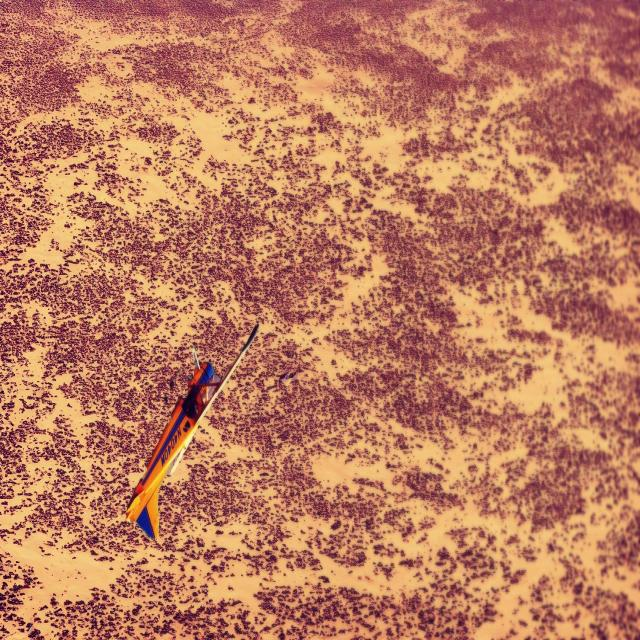airplane: (126, 321, 260, 541)
